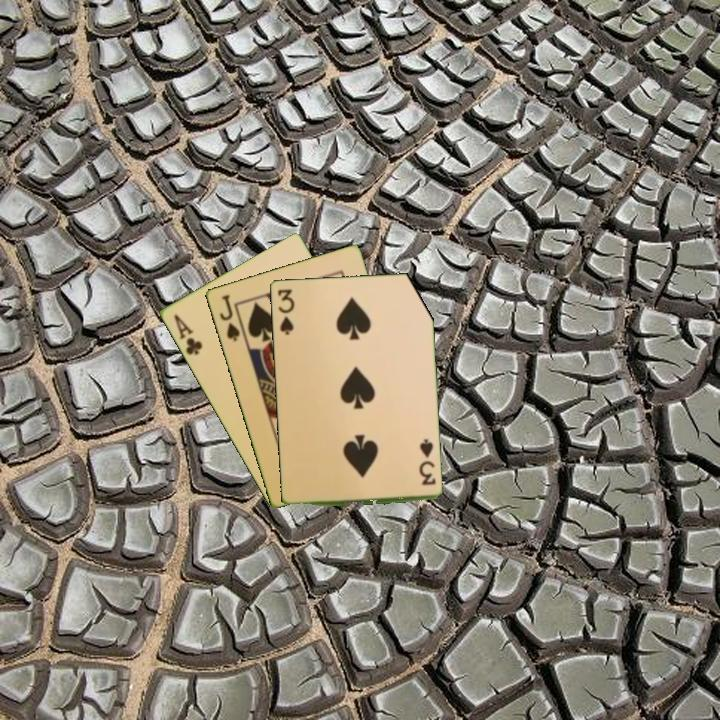3s: (274, 285, 297, 337), (415, 438, 438, 488)
Ac: (170, 310, 205, 358)
Js: (216, 291, 243, 344)
